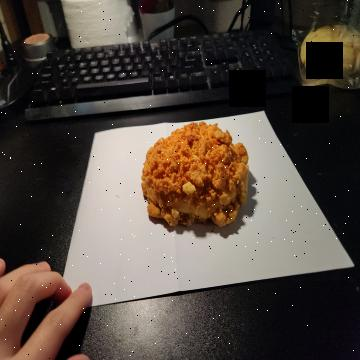soboru_bread: (143, 121, 249, 233)
